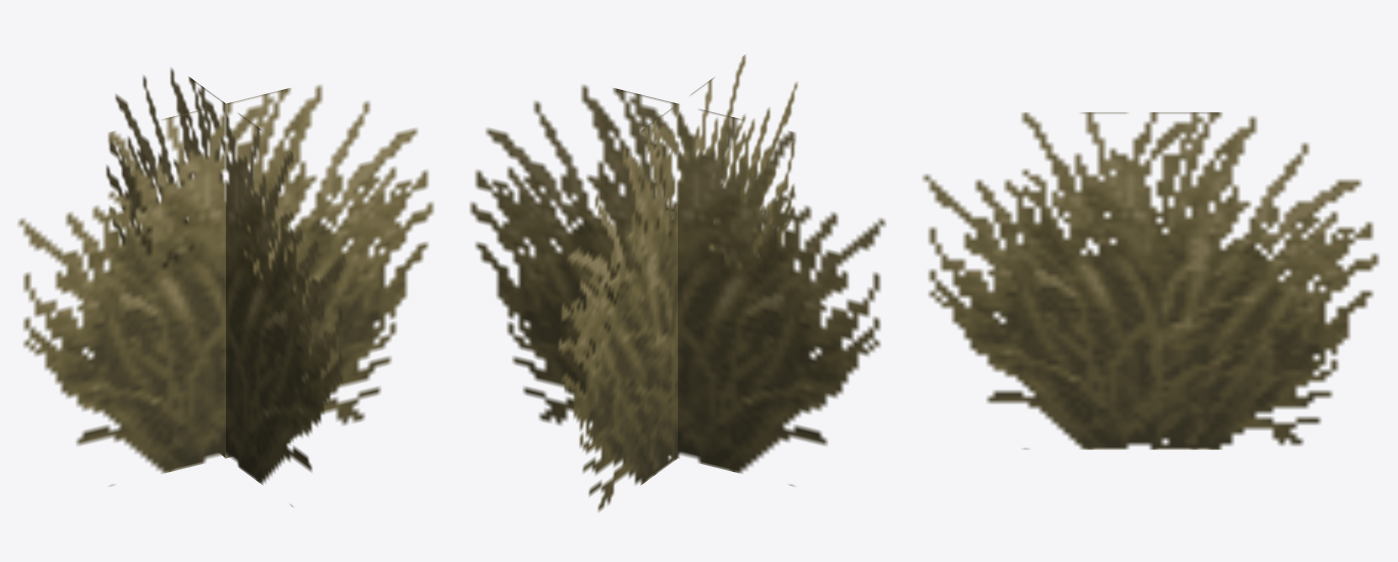
File: arbusto_beige_01.glb
3 views of the same model, side by side, from view 1: azimuth 30°, elevation 25°; view 2: azimuth 150°, elevation 25°; view 3: azimuth 270°, elevation 25° (orthographic). The views are drawn at different scales.
Visible parts, largest first — view 1: arbusto_beige_01; view 2: arbusto_beige_01; view 3: arbusto_beige_01.
Boxes of the visible parts, x1,y1,x2,y2 form: arbusto_beige_01: (18,68,433,507); arbusto_beige_01: (470,54,885,511); arbusto_beige_01: (922,112,1379,449).
Bounding box in the file's own units: 1.12 × 0.9 × 1.12.
1 material, 1 textured.
